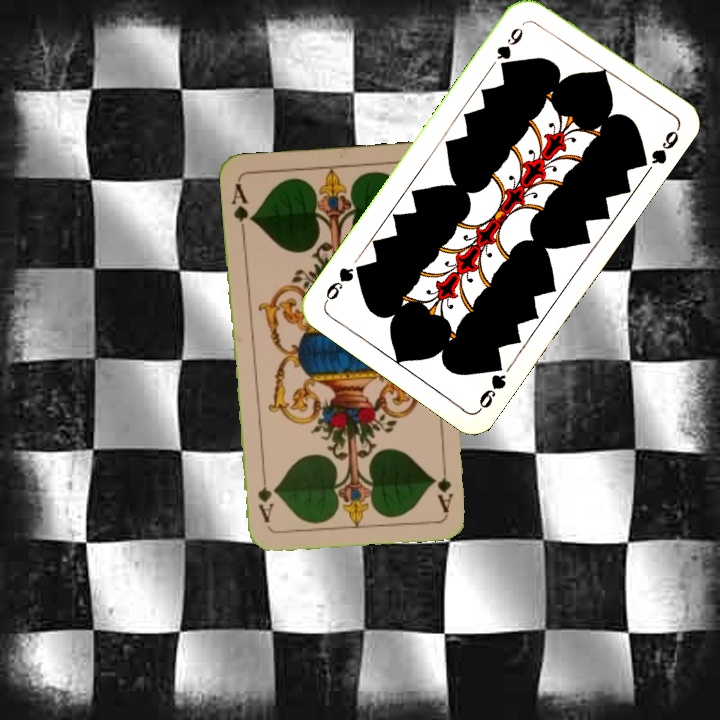G9: (474, 355, 509, 413), (492, 23, 526, 73)
GA: (228, 179, 256, 238), (434, 455, 456, 514)
